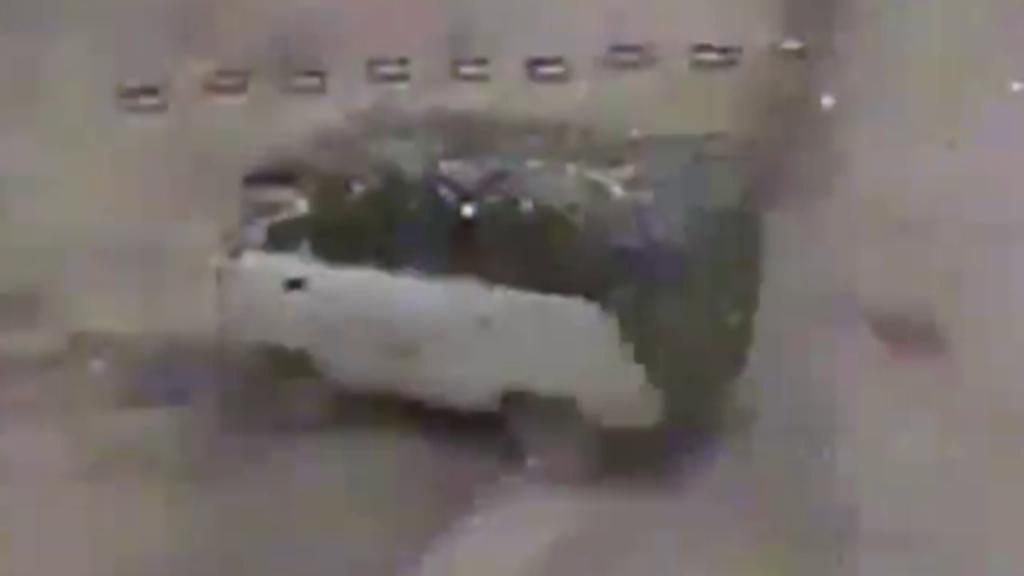CAR: (208, 147, 690, 480)
